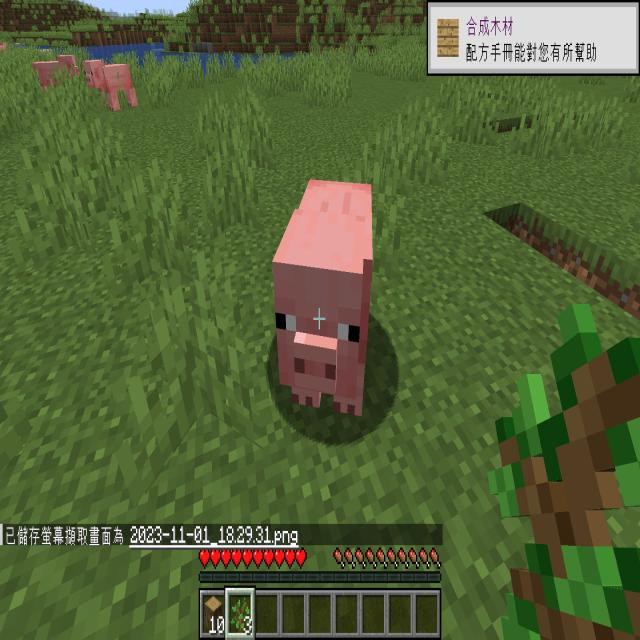pig: (261, 160, 400, 438), (82, 56, 144, 116), (0, 32, 10, 67)
